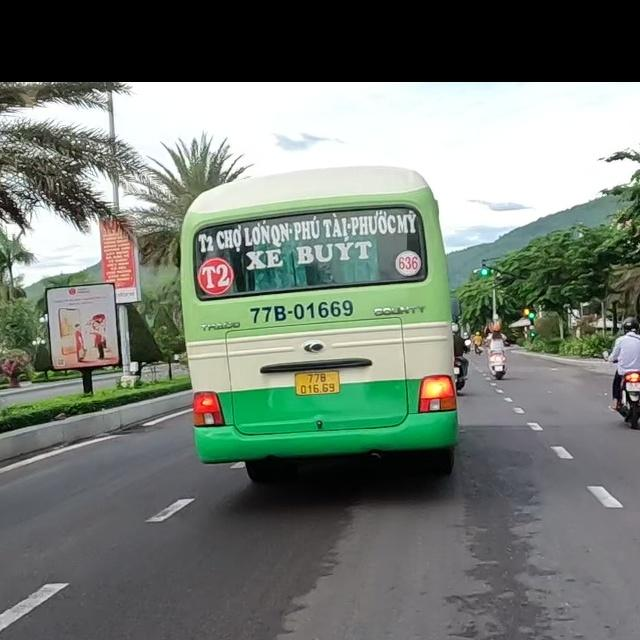license-plate: (294, 371, 341, 396)
